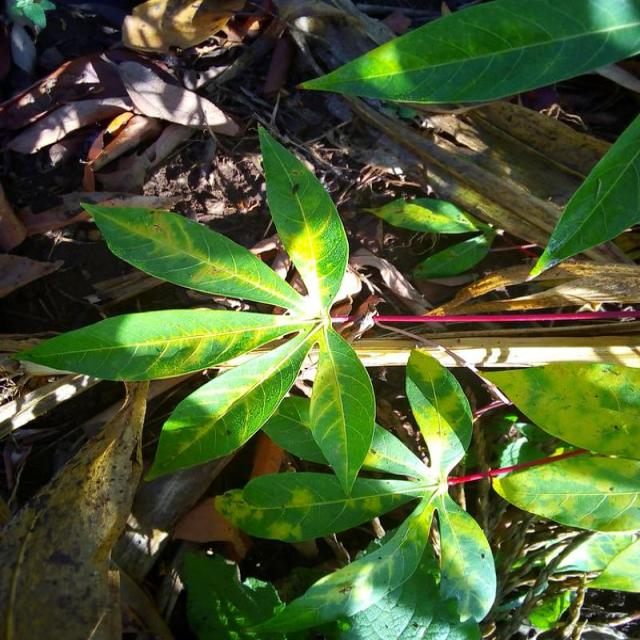cassava leaf: (295, 0, 640, 110), (80, 195, 306, 314), (526, 112, 640, 281), (258, 121, 350, 312), (309, 322, 376, 495)
